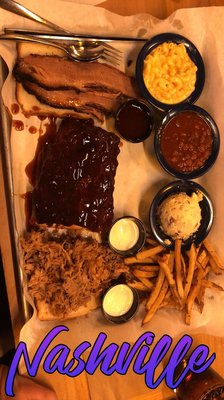sushi: (133, 33, 205, 111), (153, 103, 220, 180)
